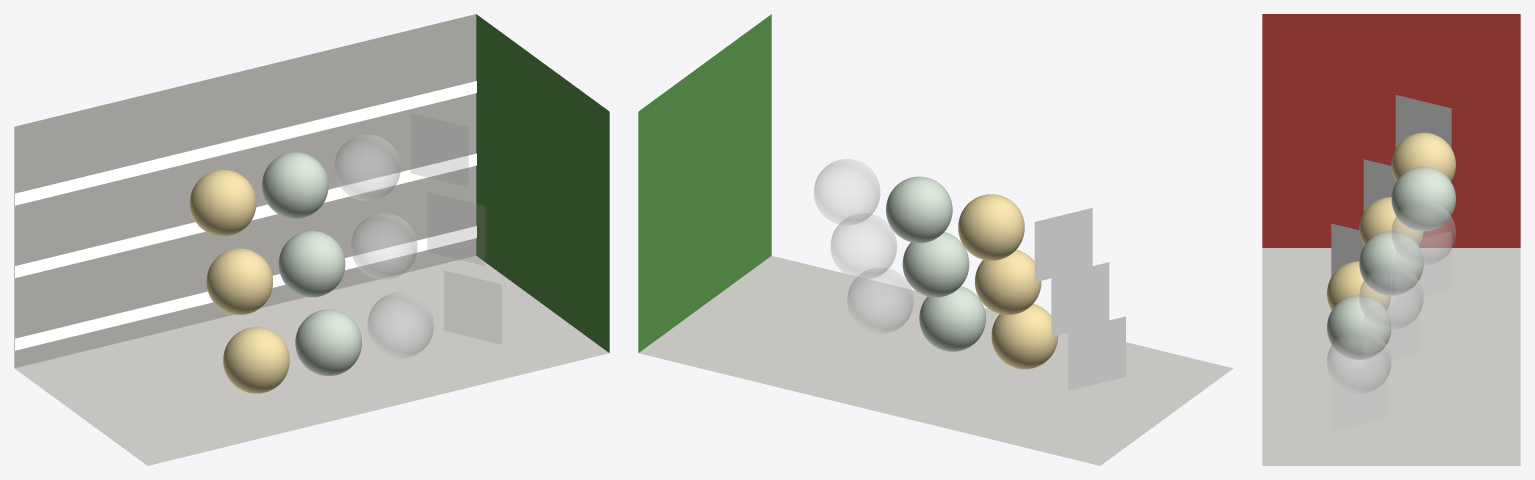
File: ConvergenceTest.gltf
The picture shows the model from 3 angles, left to right: view 1: azimuth 30°, elevation 25°; view 2: azimuth 150°, elevation 25°; view 3: azimuth 270°, elevation 25°; orthographic projection. The views are drawn at different scales.
Parts seen in each view (by area): view 1: Cube, Plane.002, Plane.001, Plane.003, Icosphere.004, Icosphere.005, Icosphere.007, Icosphere.003, Icosphere.001, Icosphere, Icosphere.006, Icosphere.008 (+4 smaller); view 2: Cube, Plane.008, Icosphere.003, Icosphere.007, Plane.007, Icosphere.006, Icosphere.002, Icosphere.008, Plane.004, Icosphere.005, Icosphere, Icosphere.004 (+1 smaller); view 3: Cube, Icosphere.007, Icosphere.005, Icosphere, Icosphere.006, Icosphere.008, Icosphere.002, Plane.009, Plane.005, Plane.006, Icosphere.003, Plane.008 (+4 smaller).
Part boxes in pixels (x1,y1,x2,y2): Cube: [14, 14, 609, 465]; Plane.002: [15, 81, 476, 205]; Plane.001: [15, 153, 476, 277]; Plane.003: [15, 226, 476, 350]; Icosphere.004: [223, 327, 289, 393]; Icosphere.005: [278, 231, 345, 297]; Icosphere.007: [262, 152, 328, 218]; Icosphere.003: [190, 169, 256, 236]; Icosphere.001: [206, 248, 272, 314]; Icosphere: [295, 309, 361, 375]; Icosphere.006: [351, 213, 416, 279]; Icosphere.008: [334, 135, 400, 200]; Cube: [638, 14, 1232, 465]; Plane.008: [1034, 208, 1092, 282]; Icosphere.003: [958, 194, 1024, 260]; Icosphere.007: [886, 176, 952, 243]; Plane.007: [1051, 262, 1109, 336]; Icosphere.006: [831, 213, 896, 279]; Icosphere.002: [847, 268, 913, 333]; Icosphere.008: [814, 159, 879, 225]; Plane.004: [1068, 316, 1125, 390]; Icosphere.005: [902, 232, 969, 297]; Icosphere: [919, 286, 985, 351]; Icosphere.004: [991, 304, 1057, 369]; Cube: [1262, 14, 1520, 465]; Icosphere.007: [1391, 167, 1455, 231]; Icosphere.005: [1359, 231, 1423, 295]; Icosphere: [1327, 295, 1391, 359]; Icosphere.006: [1359, 265, 1423, 329]; Icosphere.008: [1392, 201, 1455, 264]; Icosphere.002: [1327, 330, 1390, 393]; Plane.009: [1396, 232, 1451, 302]; Plane.005: [1331, 360, 1386, 431]; Plane.006: [1364, 296, 1418, 366]; Icosphere.003: [1391, 132, 1455, 181]; Plane.008: [1395, 95, 1451, 148].
Bounding box in the file's own units: 8 × 4 × 4.
